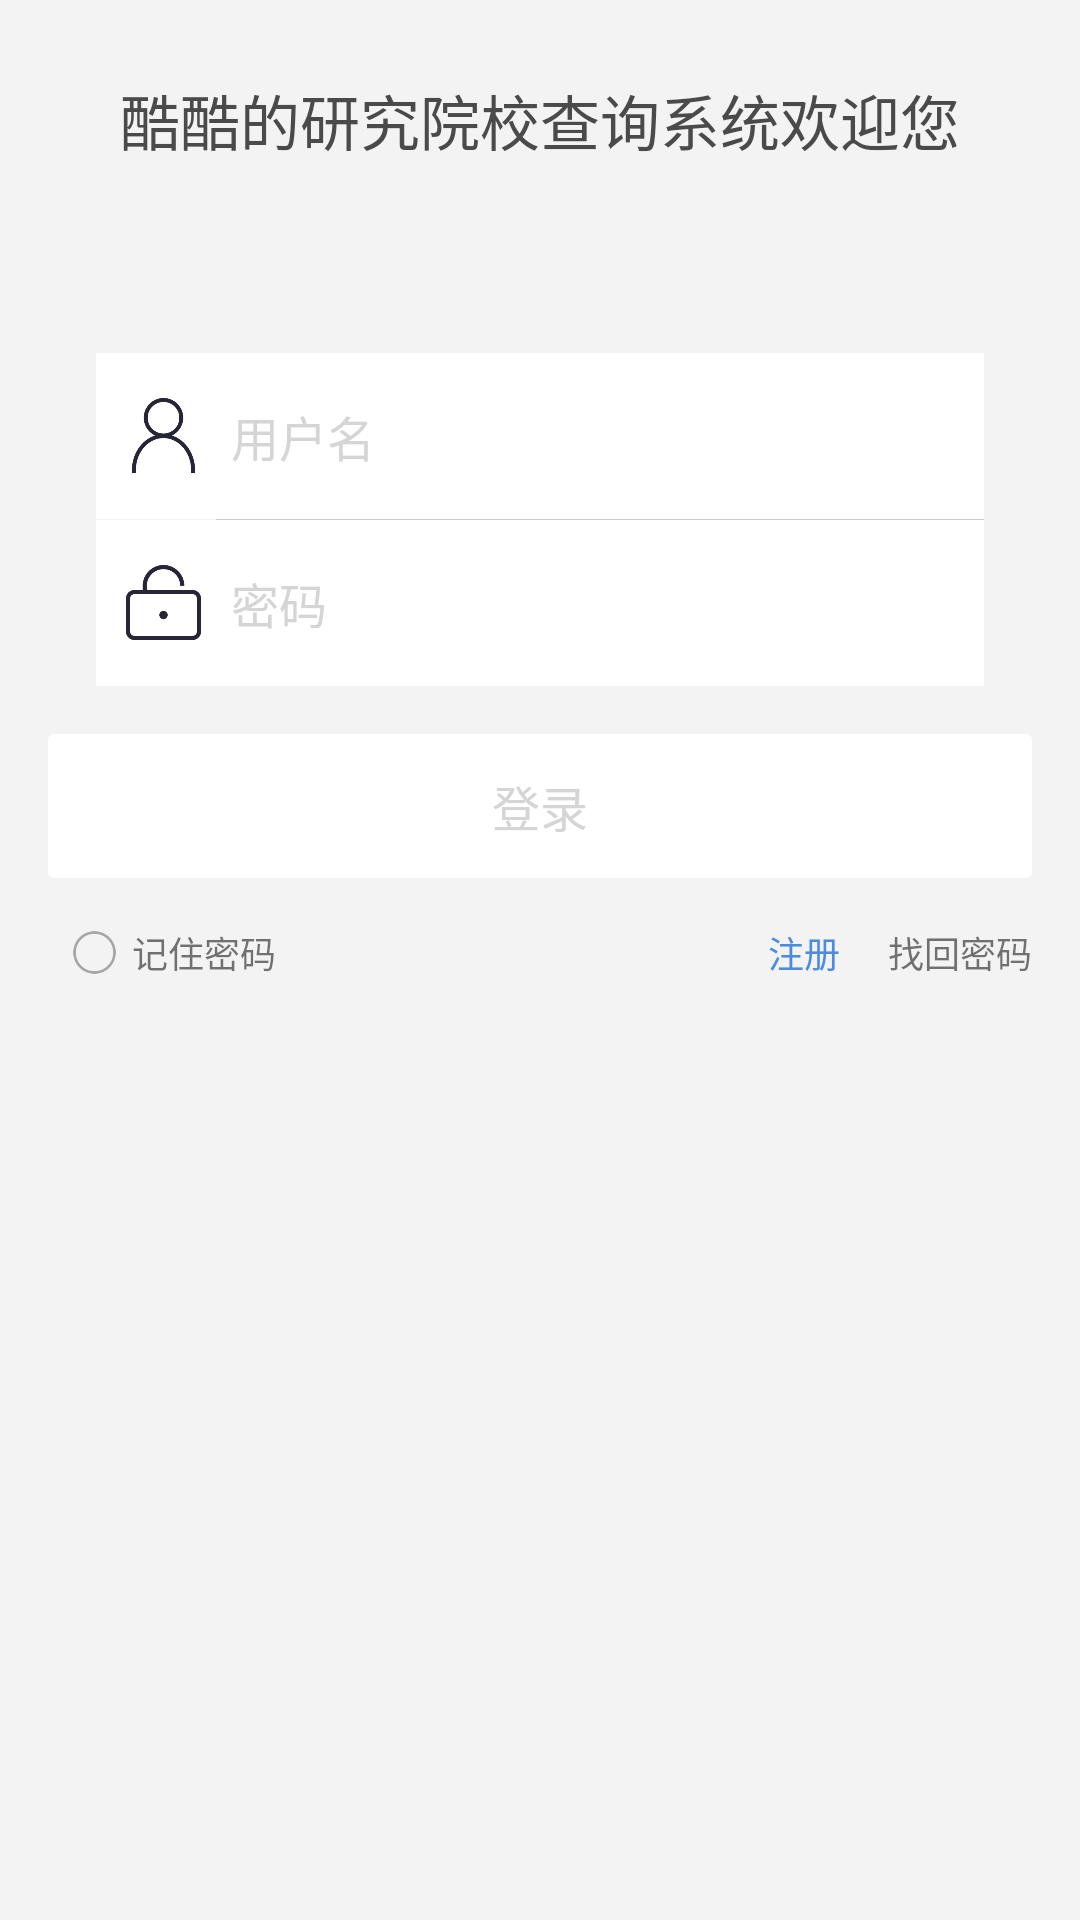

Icons on this 1080w x 1920h Android screen, each with its box as (x1, y1, x2, y2):
checkbox circle: (73, 931, 116, 974)
user name: (132, 398, 195, 473)
